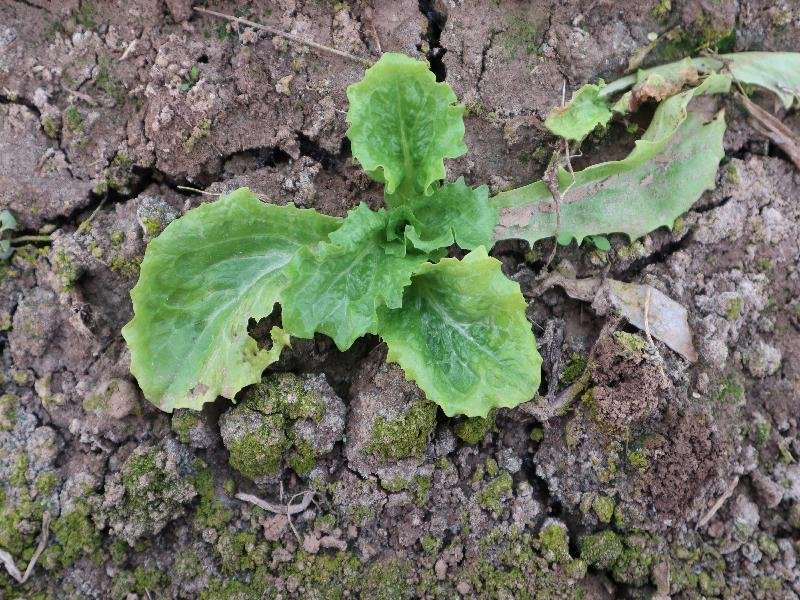lettuce: (122, 50, 544, 417)
